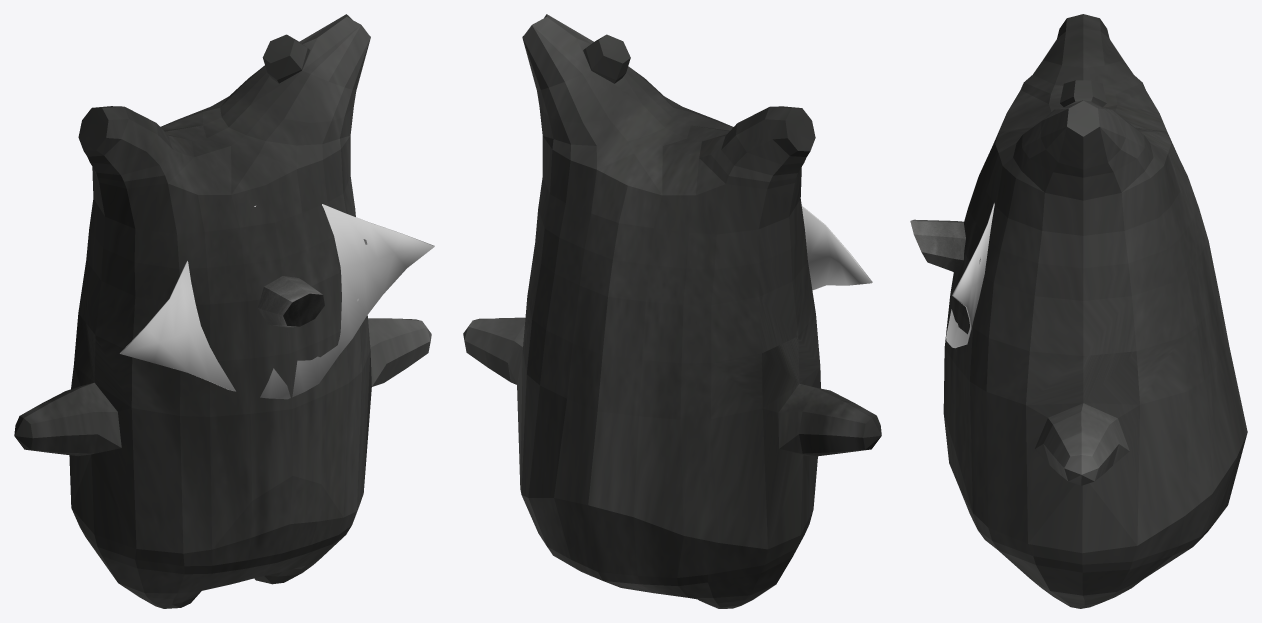
The model's file is frame_0017.obj.
The picture shows the model from 3 angles, left to right: view 1: azimuth 30°, elevation 25°; view 2: azimuth 150°, elevation 25°; view 3: azimuth 270°, elevation 25°; orthographic projection.
Visible parts, largest first — view 1: korok, leaf, nose; view 2: korok, leaf; view 3: korok, nose, leaf.
Part boxes in pixels (bbox=[...]): korok: bbox=[14, 14, 431, 608]; leaf: bbox=[120, 204, 434, 399]; nose: bbox=[257, 276, 324, 327]; korok: bbox=[463, 14, 881, 608]; leaf: bbox=[801, 205, 872, 290]; korok: bbox=[943, 14, 1247, 608]; nose: bbox=[910, 219, 965, 272]; leaf: bbox=[946, 203, 994, 348].
Size of the model in its own units: 1.87 by 2.34 by 1.32.
